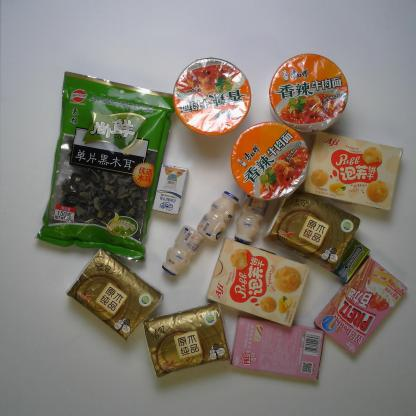Dessert: (205, 236, 312, 328), (314, 254, 406, 356), (302, 124, 402, 214), (229, 312, 326, 384)
Dried Food: (33, 70, 181, 264)
Gum: (331, 238, 373, 286)
Instant Noodles: (226, 115, 312, 202), (267, 52, 351, 136), (171, 55, 253, 136)
Milk: (161, 222, 207, 279), (198, 188, 240, 243), (229, 189, 269, 246), (154, 162, 191, 217)
Tissue: (60, 247, 165, 342), (261, 189, 362, 271), (140, 294, 236, 379)
